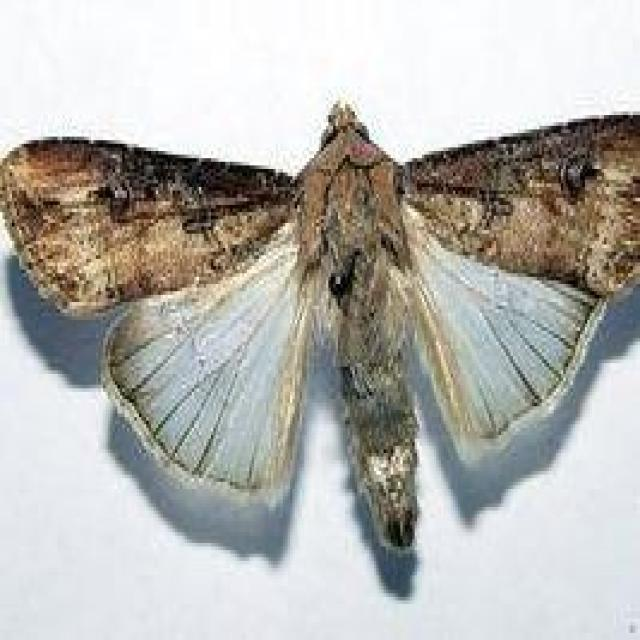black cutworm: (7, 91, 637, 587)
